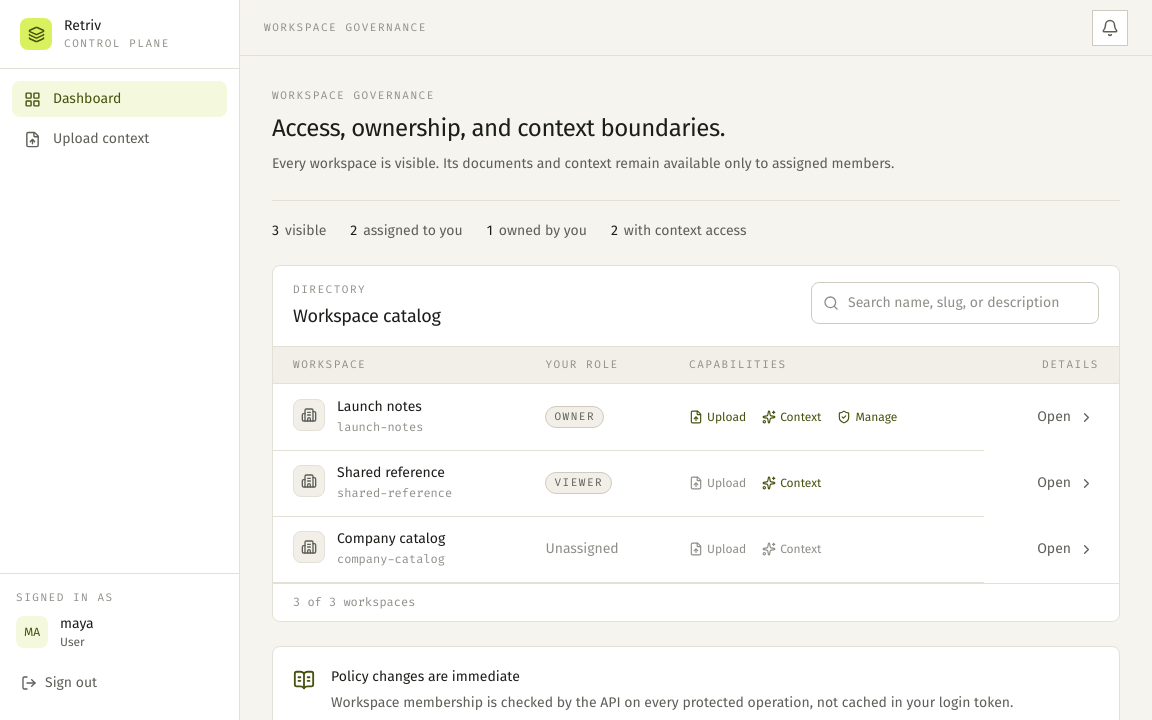
dashboard application › shows workspace capabilities without admin controls to a regular user
This screenshot has width=1152, height=720.
Expected: the heading "Access, ownership, and context boundaries." is shown, [272, 114, 725, 142]
Click the button "Open" in the row of "Launch notes".
click(1066, 417)  # box [1032, 396, 1099, 438]
(page scrolled)
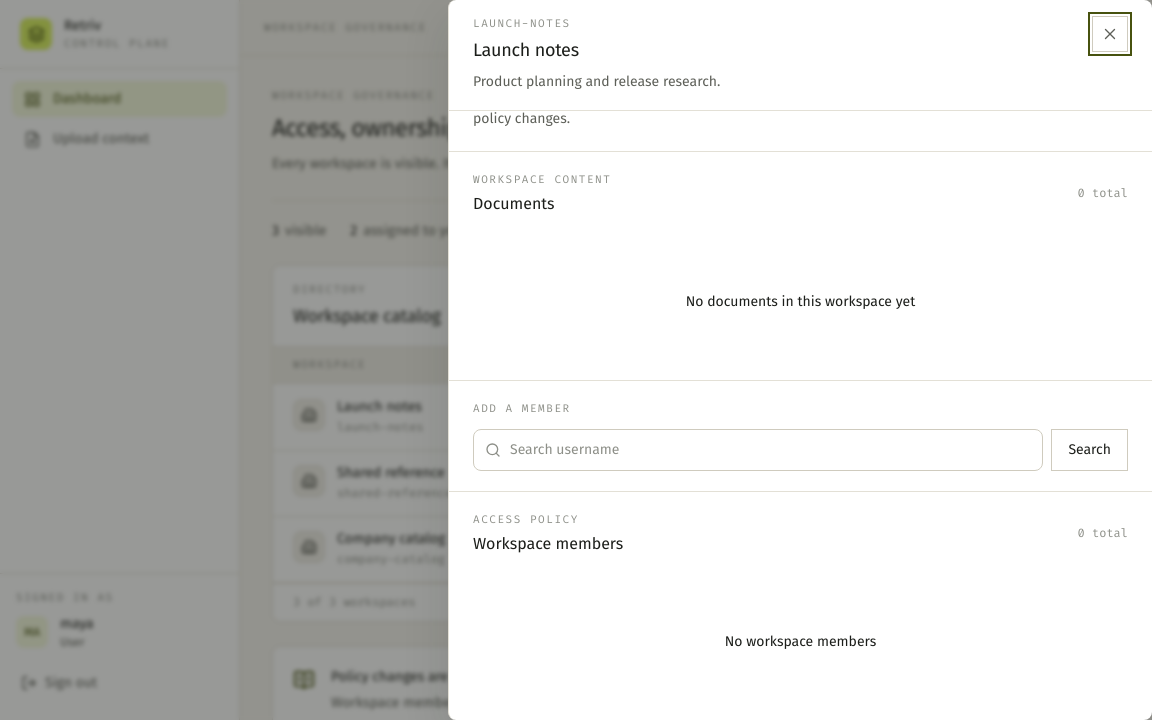
Now the heading "Workspace members" is shown, box [473, 532, 623, 556]
